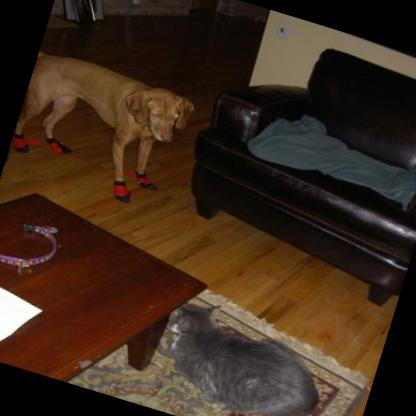vizsla: (3, 43, 197, 214)
